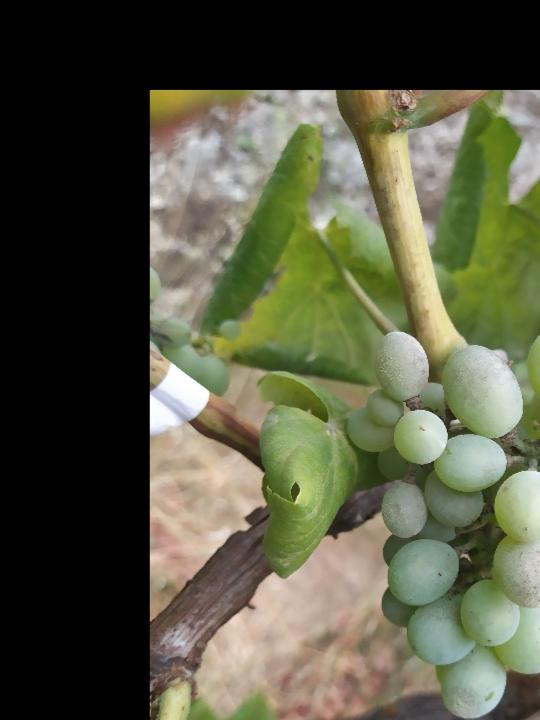grape: (344, 324, 540, 718)
